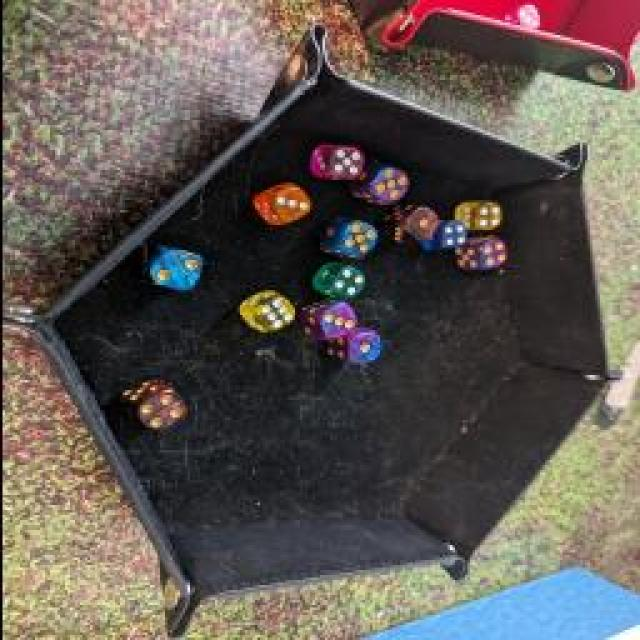dice_1: (386, 203, 442, 245), (325, 329, 380, 369)
dice_2: (142, 245, 206, 295)
dice_3: (292, 298, 358, 344), (251, 182, 311, 228)
dice_4: (115, 380, 190, 435), (311, 262, 369, 302), (452, 236, 510, 272), (447, 202, 505, 232), (432, 222, 472, 252)
dice_5: (340, 160, 415, 208), (310, 221, 380, 261), (314, 144, 368, 184)
dice_6: (236, 290, 299, 335)
